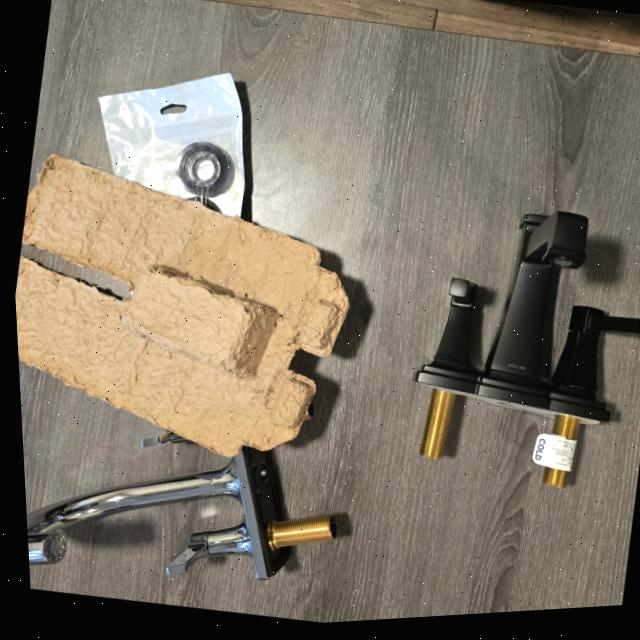10o: (27, 445, 336, 578)
13o: (99, 72, 244, 214)
9: (416, 210, 640, 486)
